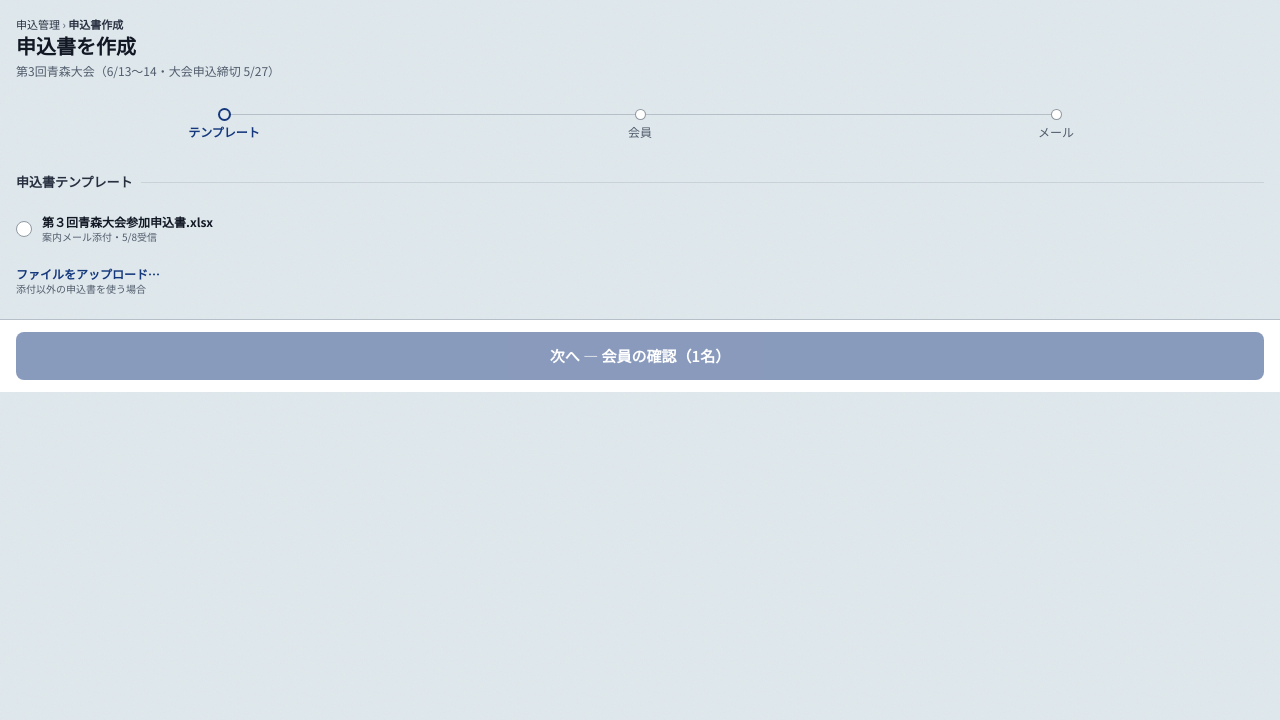
Test: EntryFormWizard — 一連のフロー › テンプレ選択→次へ→メール確認→作成成功で完了画面へ遷移する
Click the text "第３回青森大会参加申込書.xlsx".
click(128, 222)  # box [42,213,213,230]
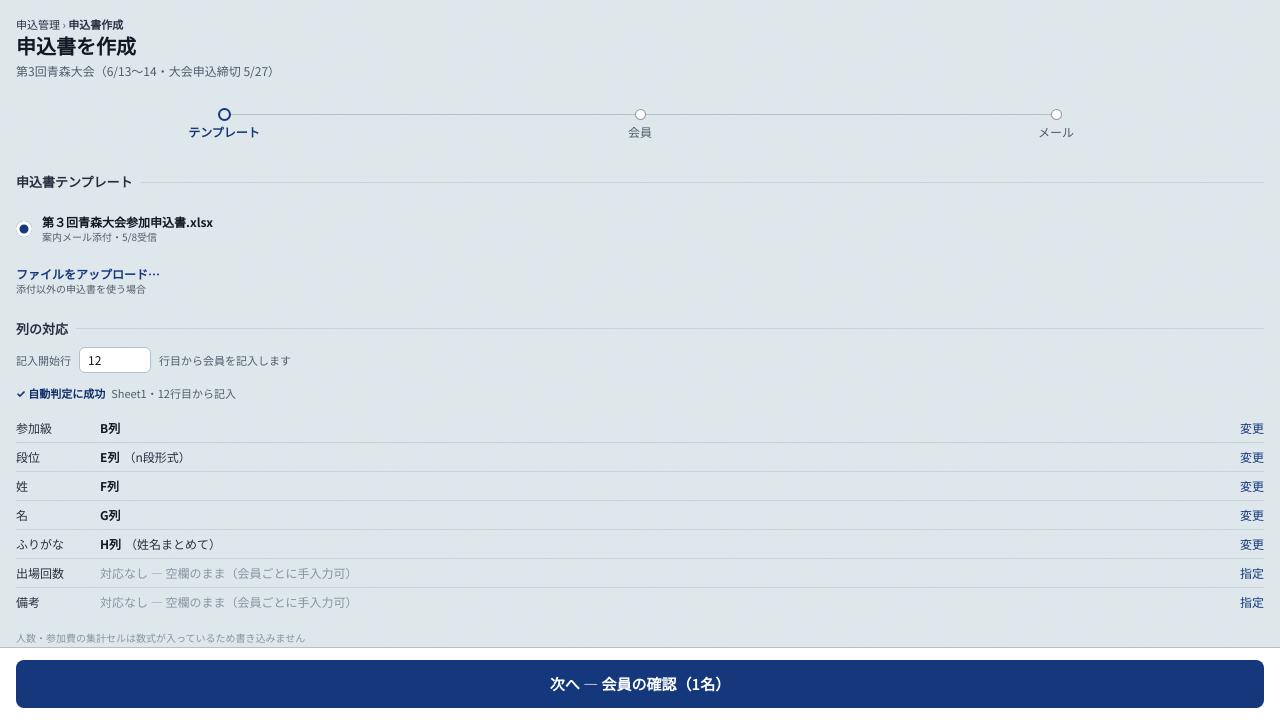
Now the text "✓ 自動判定に成功" is shown, box [16,385,105,402]
Click the button "次へ — 会員の確認（1名）".
click(640, 684)  # box [16,660,1264,708]
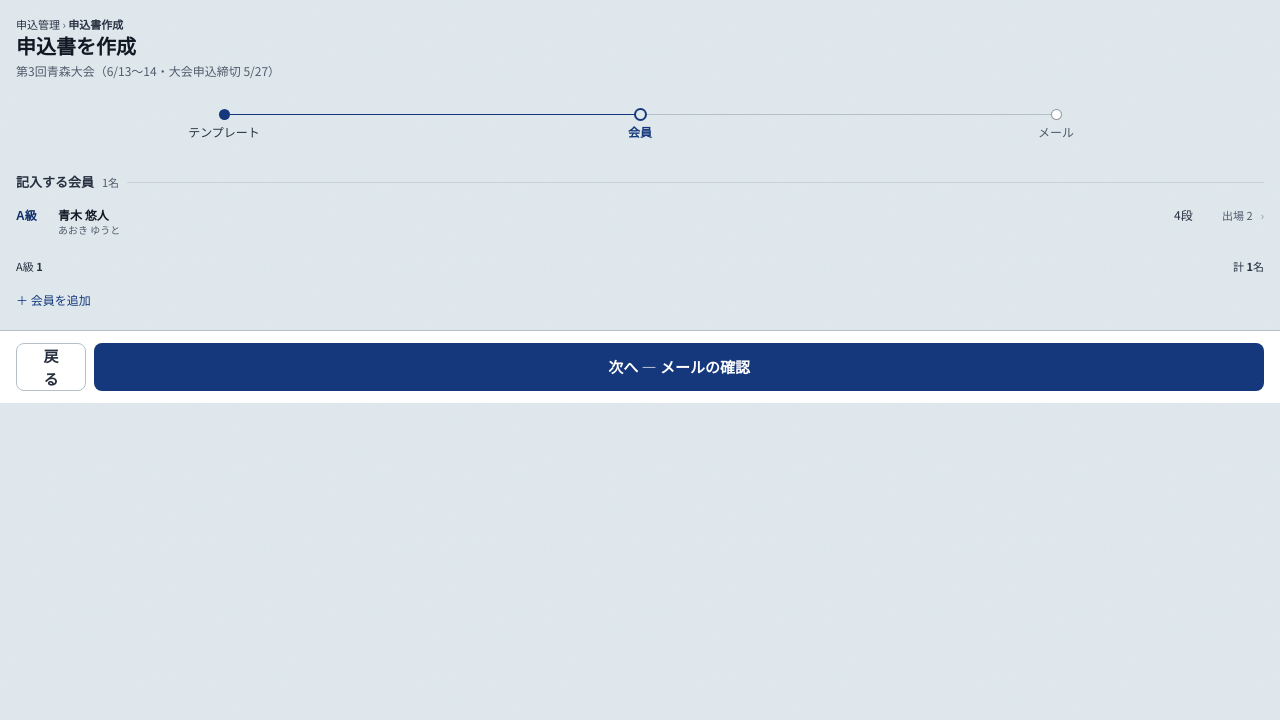
Now the text "青木 悠人" is shown, box [58,206,109,223]
Click the button "次へ — メールの確認".
click(679, 367)  # box [94,343,1264,391]
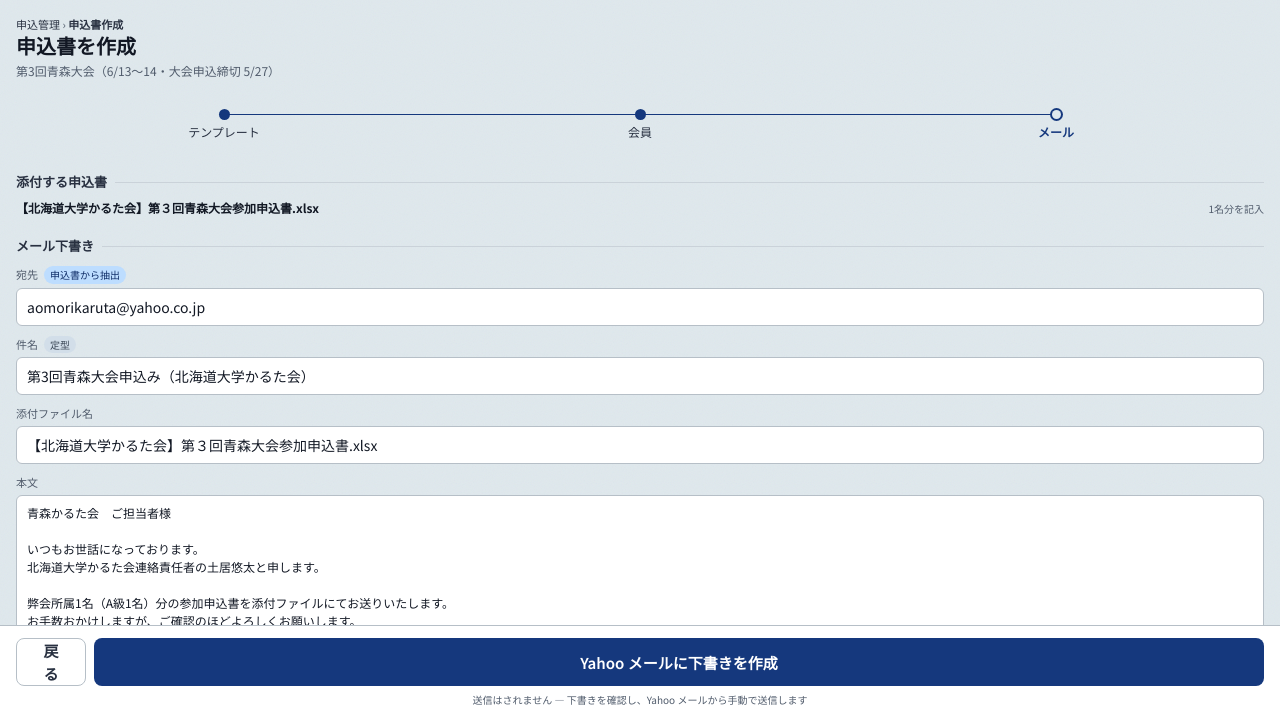
Now the field showing "aomorikaruta@yahoo.co.jp" is shown, box [16,288,1264,326]
Click the button "Yahoo メールに下書きを作成".
click(679, 662)  # box [94,638,1264,686]
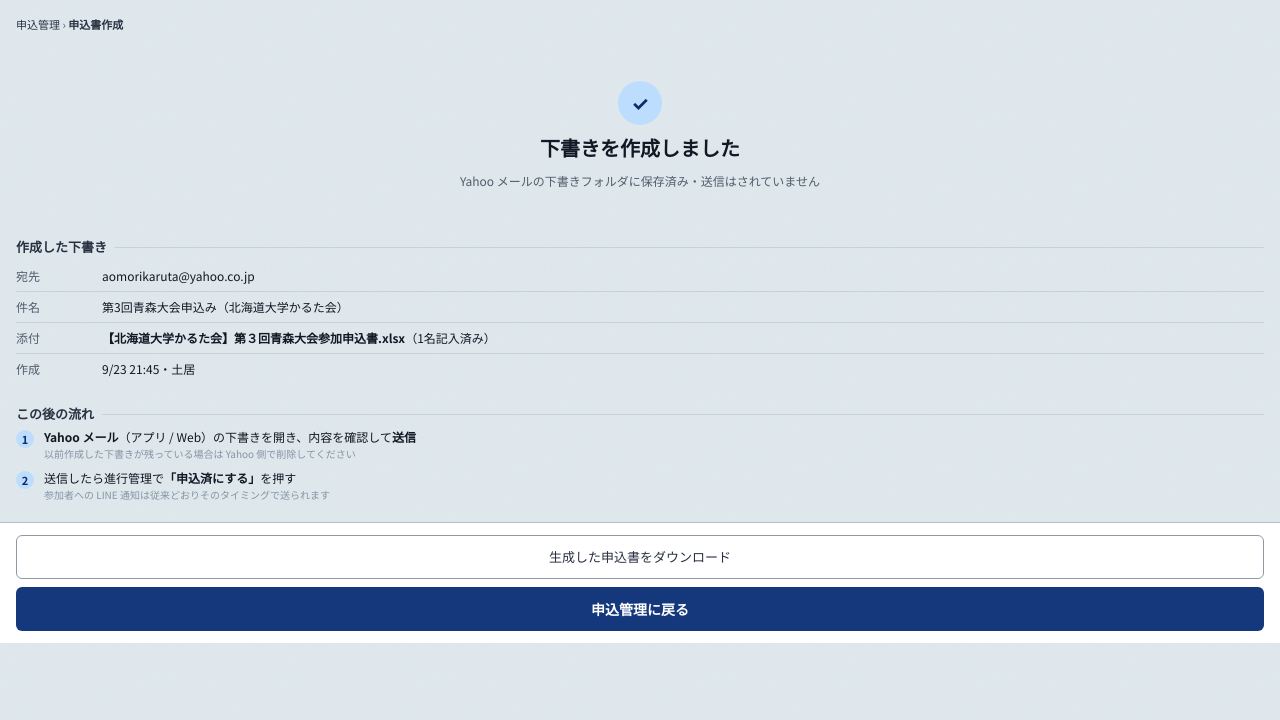
Now the heading "下書きを作成しました" is shown, box [540,135,740,163]
